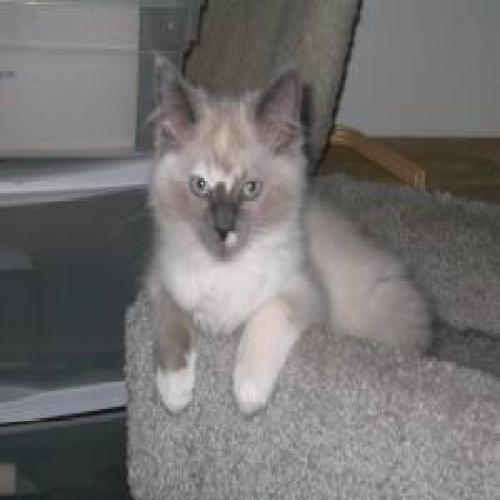ragdoll: (148, 66, 310, 269)
